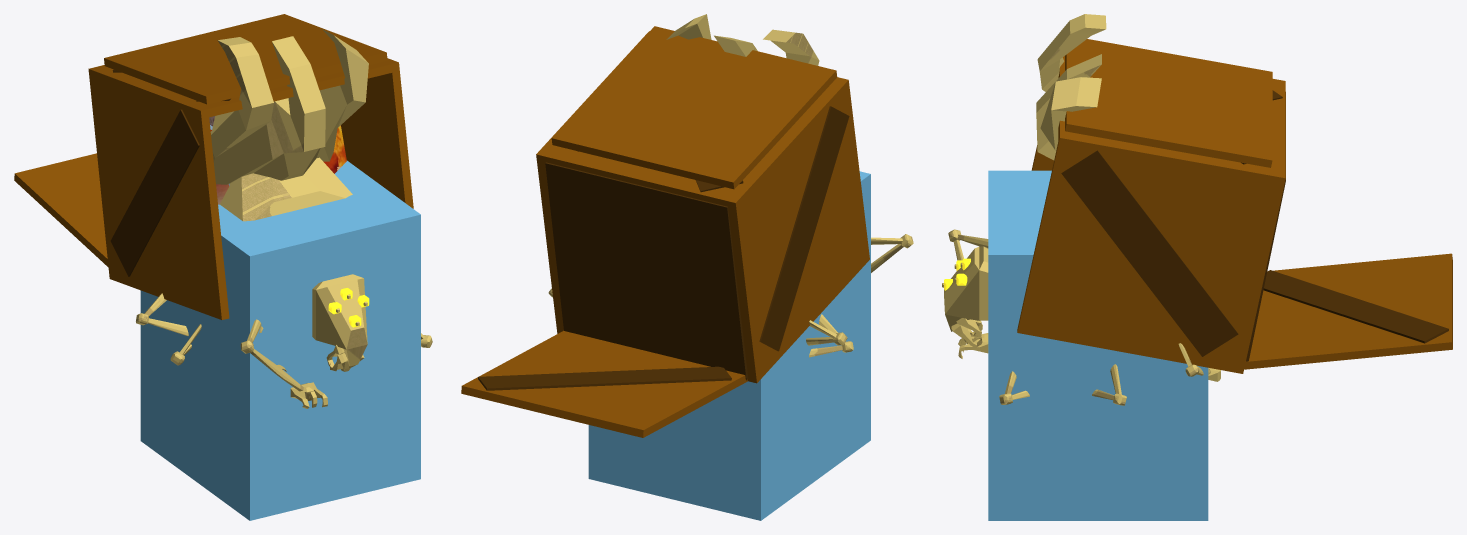
Rendered from Crate Crab23.fbx.
The picture shows the model from 3 angles, left to right: view 1: azimuth 30°, elevation 25°; view 2: azimuth 150°, elevation 25°; view 3: azimuth 270°, elevation 25°; orthographic projection.
Parts seen in each view (by area): view 1: Frozen, CrateCrabShell, Foot, Top, CrateCrabBodyAndHead, SidePannel, Bracket_2, Joint, Cube_6, Cube_5; view 2: Frozen, Floor, Top, CrateCrabShell, SidePannel, Bracket_2, Bracket_1, Foot; view 3: Frozen, CrateCrabShell, Top, SidePannel, Bracket__2_, Foot, Bracket_1, CrateCrabBodyAndHead, Beak.
Part boxes in pixels (box(x1,y1,x2,y2)): Frozen: box(140, 160, 420, 520); CrateCrabShell: box(88, 58, 413, 319); Foot: box(210, 29, 368, 184); Top: box(104, 14, 387, 104); CrateCrabBodyAndHead: box(220, 157, 367, 366); SidePannel: box(14, 153, 108, 267); Bracket_2: box(110, 109, 199, 276); Joint: box(209, 116, 346, 204); Cube_6: box(290, 382, 327, 408); Cube_5: box(250, 349, 303, 391); Frozen: box(588, 171, 870, 520); Floor: box(545, 162, 748, 380); Top: box(551, 26, 837, 189); CrateCrabShell: box(536, 31, 869, 383); SidePannel: box(461, 330, 747, 437); Bracket_2: box(759, 106, 849, 351); Bracket_1: box(478, 366, 731, 390); Foot: box(666, 14, 819, 65); Frozen: box(988, 170, 1208, 520); CrateCrabShell: box(1017, 56, 1285, 373); Top: box(1065, 39, 1272, 167); SidePannel: box(1244, 253, 1452, 369); Bracket__2_: box(1061, 150, 1238, 356); Foot: box(1036, 14, 1106, 160); Bracket_1: box(1263, 270, 1448, 343); CrateCrabBodyAndHead: box(944, 246, 988, 331); Beak: box(951, 318, 982, 347).
Size of the model in its own units: 361 by 573 by 609.
